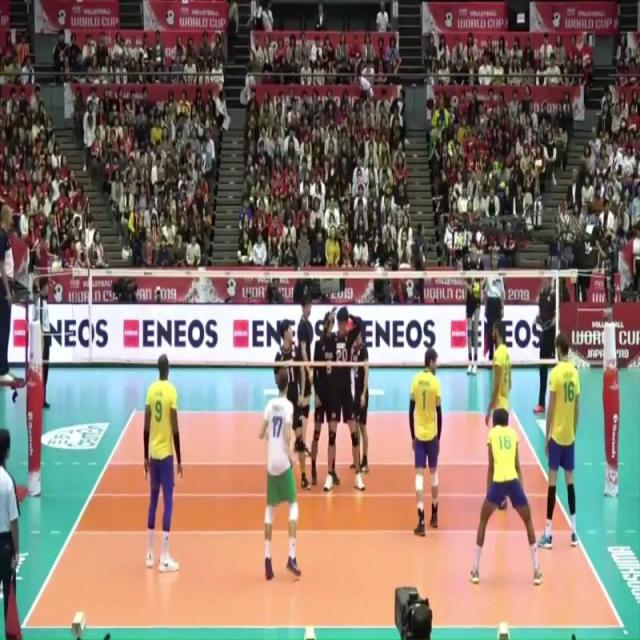volleyball: (470, 280, 483, 302)
